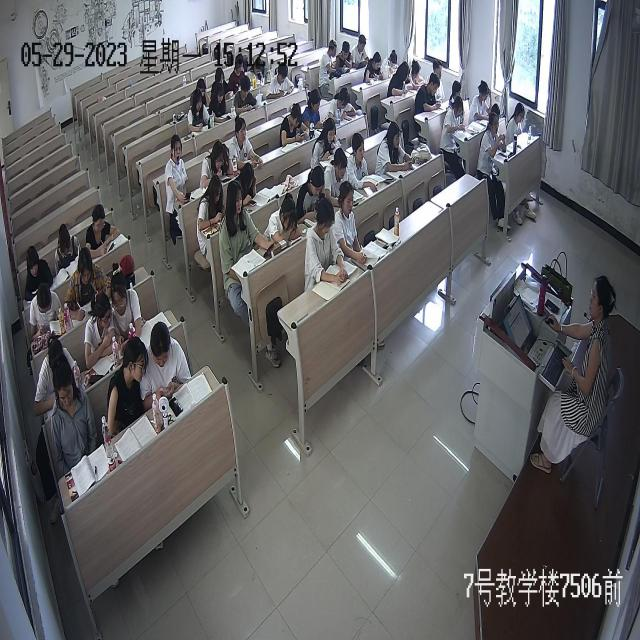distracted: (52, 361, 99, 465), (106, 336, 150, 436), (109, 266, 143, 344), (85, 294, 118, 368), (22, 247, 54, 297), (54, 223, 83, 276), (335, 40, 355, 79), (321, 37, 338, 82), (449, 79, 464, 115)
focused: (308, 196, 350, 288), (36, 339, 80, 414), (64, 247, 110, 317), (334, 178, 368, 264), (298, 163, 331, 225), (309, 116, 343, 172), (229, 118, 263, 174), (88, 202, 122, 256), (347, 134, 376, 196), (197, 178, 224, 238), (326, 148, 350, 208), (478, 113, 506, 159), (267, 61, 296, 101), (232, 77, 259, 119), (469, 77, 493, 123), (440, 96, 465, 140), (208, 83, 234, 124), (362, 50, 386, 85), (506, 101, 526, 143), (389, 62, 412, 97), (229, 53, 248, 92), (352, 32, 371, 69), (380, 47, 401, 79), (247, 52, 267, 85), (433, 59, 446, 98)
sleep: (264, 190, 304, 249)
using_phone: (219, 178, 274, 272), (142, 323, 193, 413), (377, 122, 418, 179), (199, 138, 240, 190), (165, 134, 193, 210), (29, 281, 63, 341), (279, 102, 311, 148), (410, 72, 441, 117), (235, 160, 260, 213), (328, 84, 358, 127), (302, 85, 330, 131), (188, 87, 214, 135), (410, 60, 430, 90)
